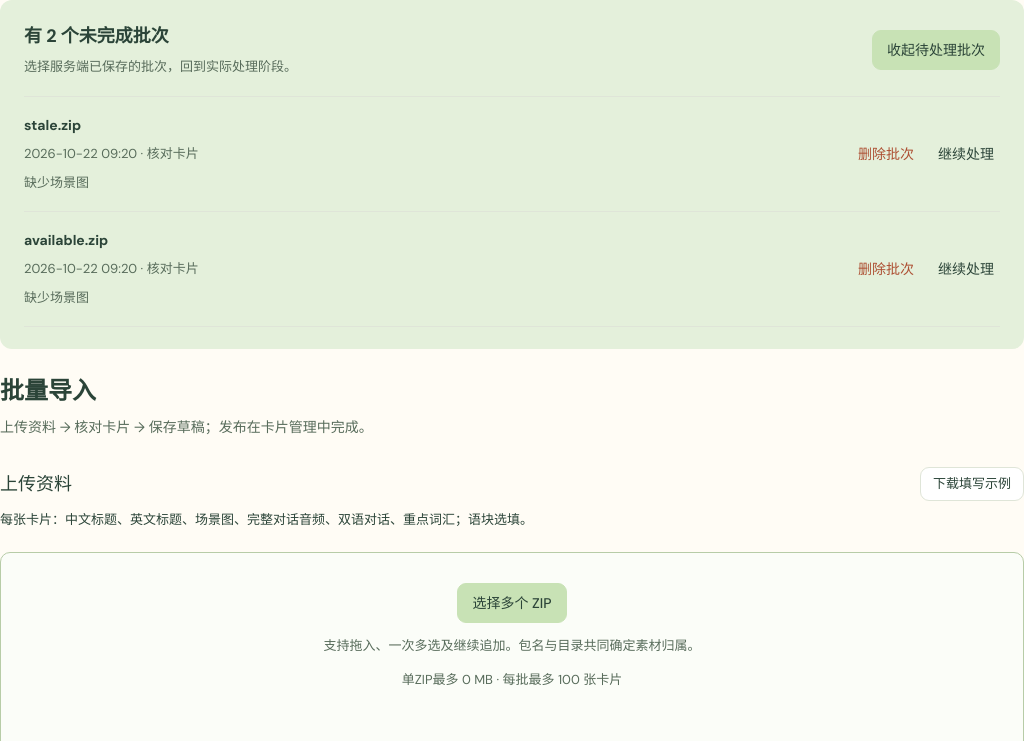
Test: explains an invalid selection (409) and refreshes the collection without opening it
Click the 1st button "继续处理": (966, 154) [932,134,1000,174]
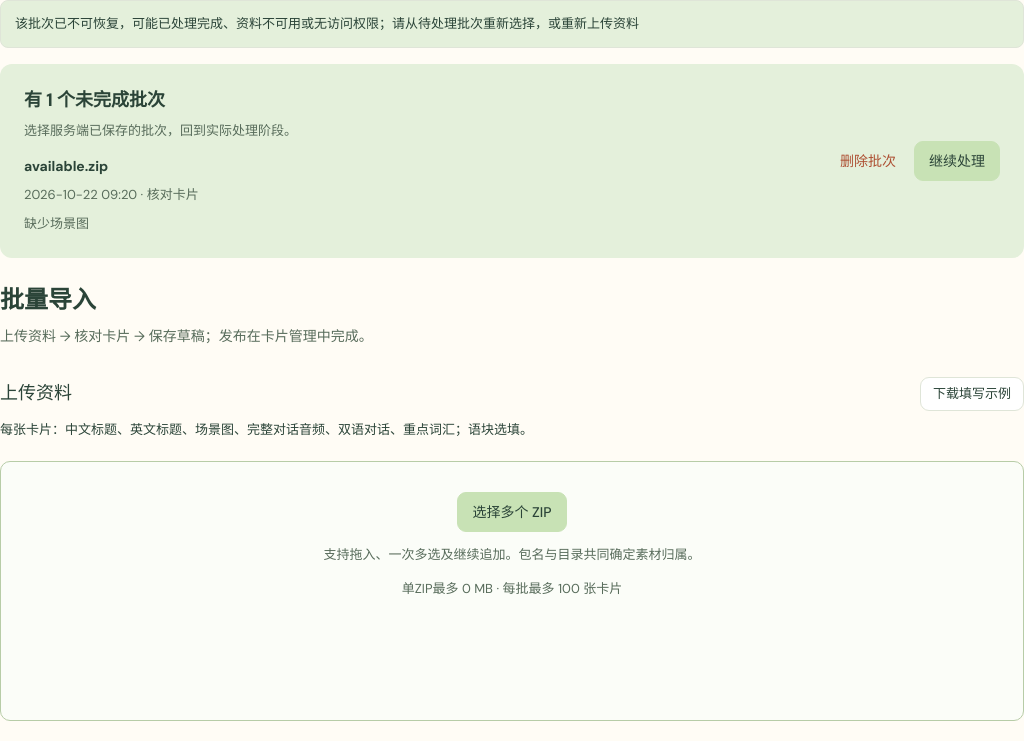
Expected: the text "available.zip" is shown, [24,157,108,175]
Expected: the text "不可恢复" is shown, [15,15,639,32]
